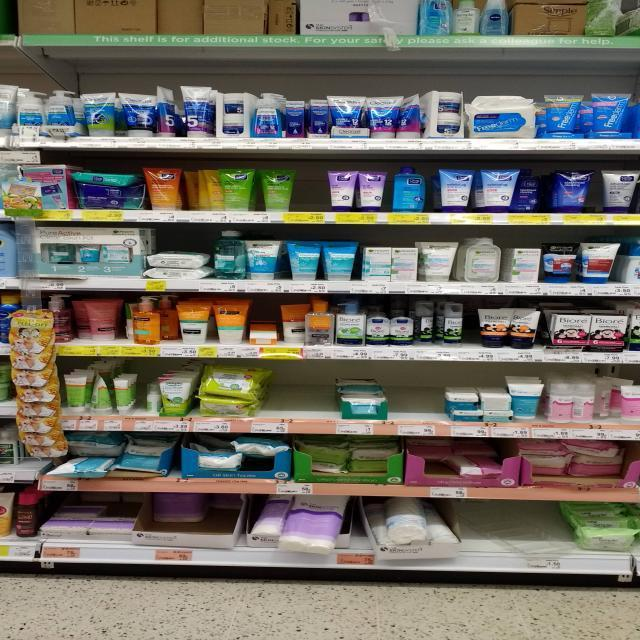empty: (462, 502, 562, 570), (267, 361, 333, 433), (389, 362, 442, 434), (294, 161, 328, 223), (464, 299, 479, 361)
